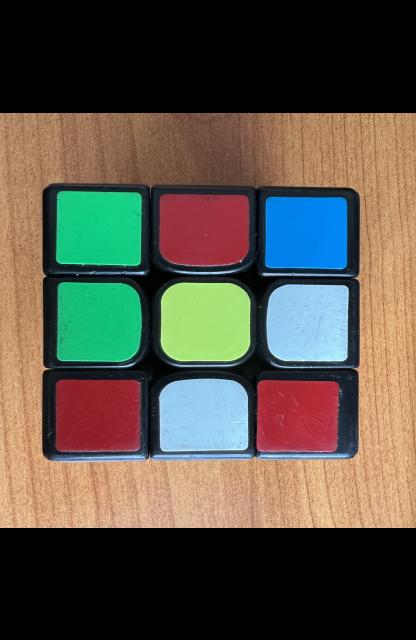Blue: (266, 195, 347, 268)
Green: (57, 281, 142, 361), (56, 190, 142, 265)
Red: (159, 193, 249, 265), (56, 378, 140, 451), (257, 378, 339, 451)
White: (159, 377, 249, 451), (267, 283, 349, 360)
Yellow: (160, 281, 250, 361)
